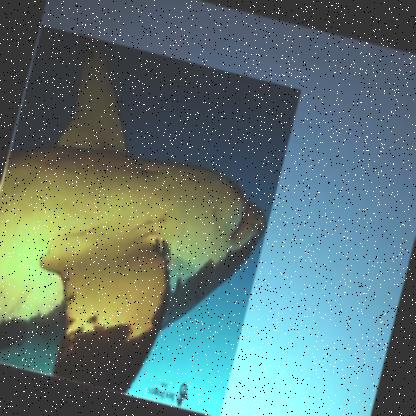white-shark: (0, 23, 301, 415)
